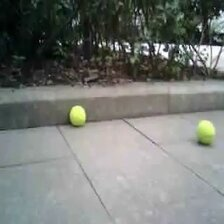tennis: (197, 120, 215, 144), (69, 104, 86, 124)
